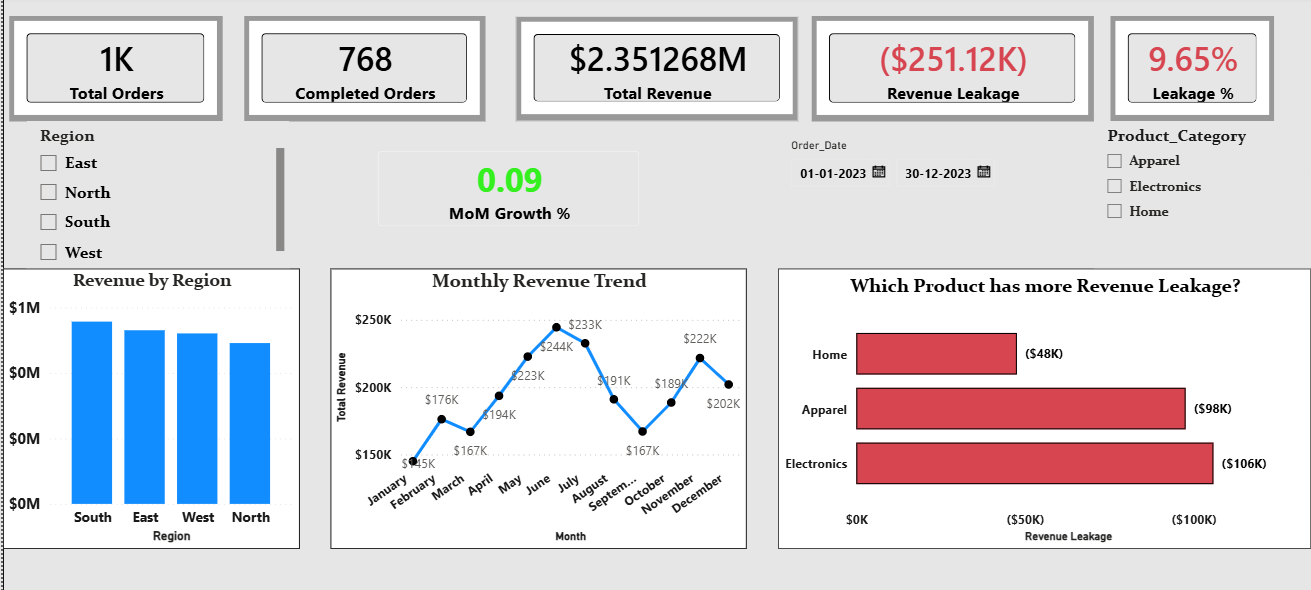

What the dashboard file says about the page in this screenshot:
{"tool":"powerbi","page":{"name":"Orders_Dashboard","canvas":[1280,720],"ordinal":0},"visuals":[{"type":"cardVisual","title":"Total Orders","fields":{"Data":["Orders_Data.Total Orders"]},"box":[5.7,20,208.6,102.9],"z":0},{"type":"cardVisual","fields":{"Data":["Orders_Data.Completed Orders"]},"box":[235.7,20,235.7,102.9],"z":1000},{"type":"cardVisual","fields":{"Data":["Orders_Data.Total Revenue"]},"box":[501.4,20,277.1,102.9],"z":2000},{"type":"cardVisual","fields":{"Data":["Orders_Data.Revenue Leakage"]},"box":[791.4,20,275.7,102.9],"z":3000},{"type":"cardVisual","fields":{"Data":["Orders_Data.Leakage %"]},"box":[1082.9,20,160,102.9],"z":4000},{"type":"clusteredColumnChart","title":"Revenue by Region","fields":{"Category":["Orders_Data.Region"],"Y":["Sum(Orders_Data.Revenue)"]},"box":[0,267.1,290,274.3],"z":5000},{"type":"lineChart","title":"Monthly Revenue Trend","fields":{"Category":["Orders_Data.Order_Date.Variation.Date Hierarchy.Month"],"Y":["Orders_Data.Total Revenue"]},"box":[320,267.1,407.1,274.3],"z":6000},{"type":"clusteredBarChart","title":"Which Product has more Revenue Leakage?","fields":{"Category":["Orders_Data.Product_Category"],"Y":["Orders_Data.Revenue Leakage"]},"box":[758.6,267.1,521.4,274.3],"z":7000},{"type":"slicer","fields":{"Values":["Orders_Data.Region"]},"box":[22.9,122.9,257.1,144.3],"z":8000},{"type":"slicer","fields":{"Values":["Orders_Data.Product_Category"]},"box":[1067.1,122.9,212.9,144.3],"z":9000},{"type":"cardVisual","fields":{"Data":["Orders_Data.MoM Growth %"]},"box":[350,134.3,290,108.6],"z":10000},{"type":"slicer","fields":{"Values":["Orders_Data.Order_Date"]},"box":[758.6,134.3,260,84.3],"z":11000}]}

Visuals, with their boxes on the page's 1280x720 design canvas (x1, y1, x2, y2). These are canvas units, not pixel positions in the 1311x590 screenshot, which may show the page scaled, cropped or inside an application window:
"Total Orders" cardVisual: rect(6, 20, 214, 123)
cardVisual - Orders_Data.Completed Orders: rect(236, 20, 471, 123)
cardVisual - Orders_Data.Total Revenue: rect(501, 20, 778, 123)
cardVisual - Orders_Data.Revenue Leakage: rect(791, 20, 1067, 123)
cardVisual - Orders_Data.Leakage %: rect(1083, 20, 1243, 123)
"Revenue by Region" clusteredColumnChart: rect(0, 267, 290, 541)
"Monthly Revenue Trend" lineChart: rect(320, 267, 727, 541)
"Which Product has more Revenue Leakage?" clusteredBarChart: rect(759, 267, 1280, 541)
slicer - Orders_Data.Region: rect(23, 123, 280, 267)
slicer - Orders_Data.Product_Category: rect(1067, 123, 1280, 267)
cardVisual - Orders_Data.MoM Growth %: rect(350, 134, 640, 243)
slicer - Orders_Data.Order_Date: rect(759, 134, 1019, 219)
